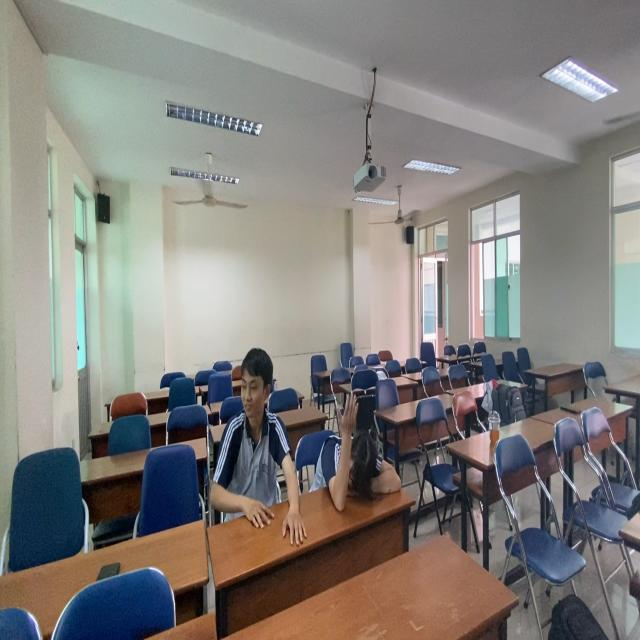sleep: (309, 421, 413, 532)
